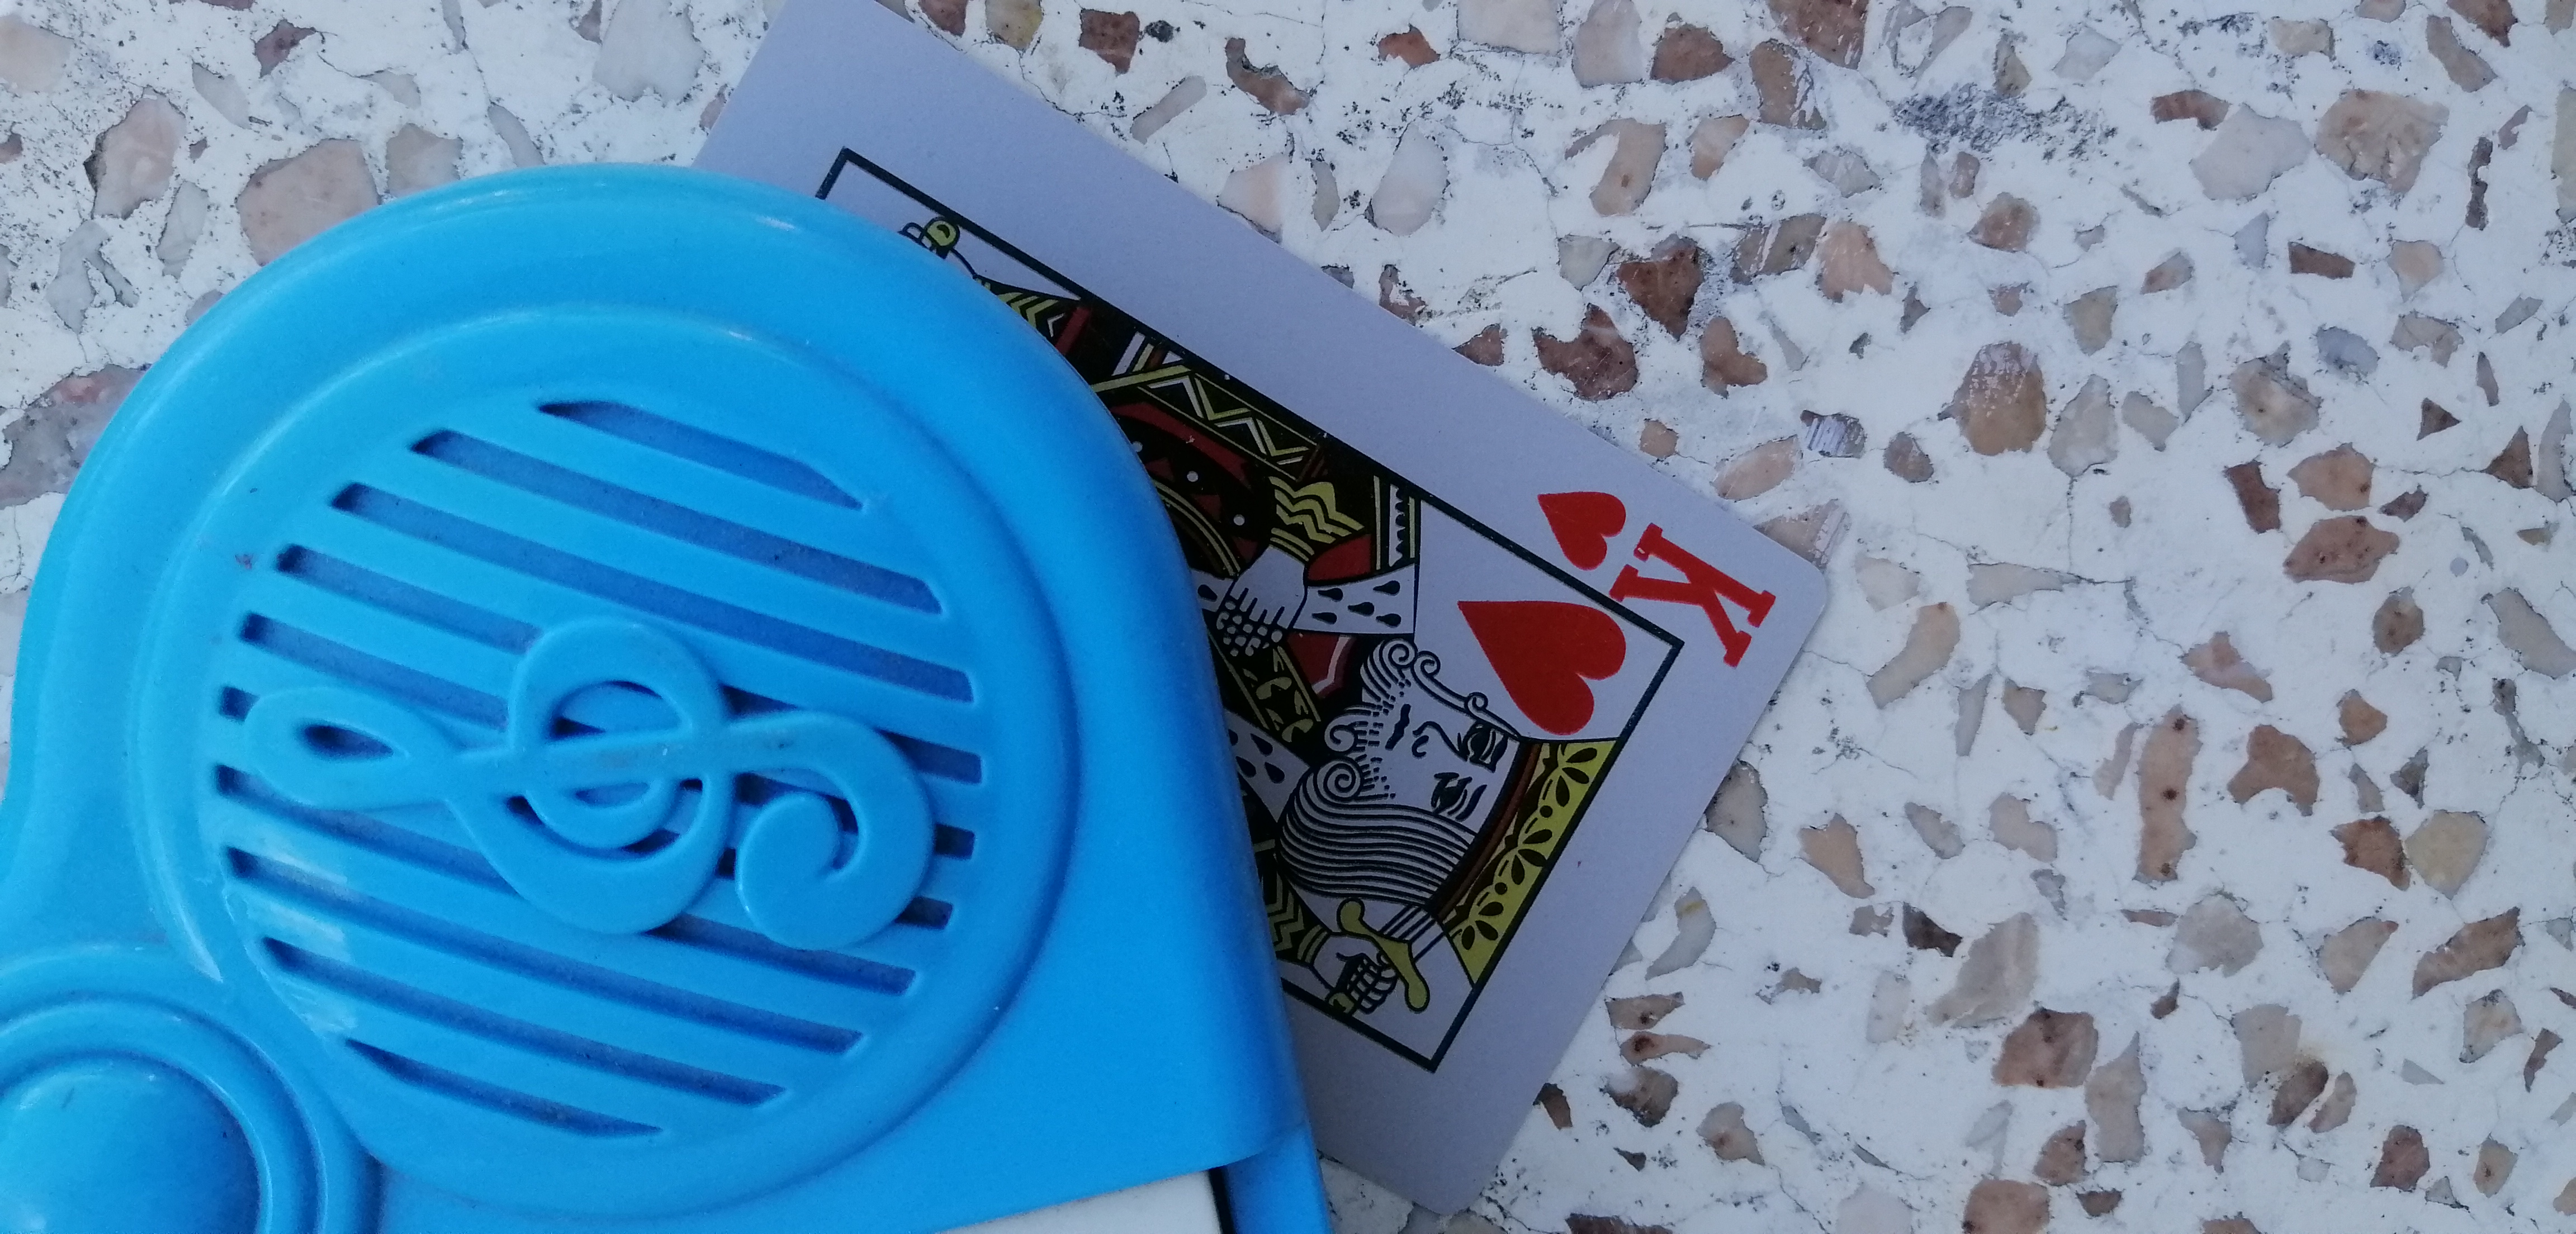king: (695, 10, 1799, 1144)
